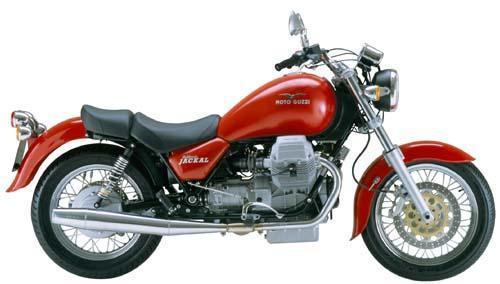motorcycle: (8, 20, 500, 284)
